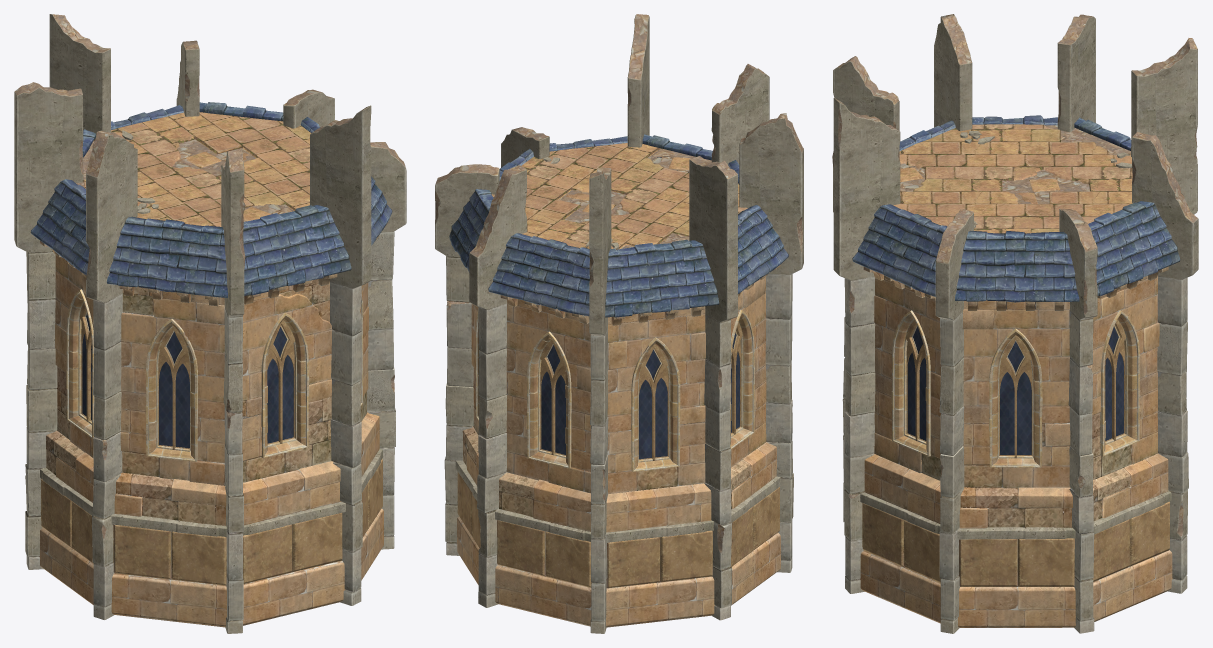
3 views of the same model, side by side, from view 1: azimuth 30°, elevation 25°; view 2: azimuth 150°, elevation 25°; view 3: azimuth 270°, elevation 25° (orthographic). The views are drawn at different scales.
Visible parts, largest first — view 1: SM_Magic_Insitute_02v02_LOD0; view 2: SM_Magic_Insitute_02v02_LOD0; view 3: SM_Magic_Insitute_02v02_LOD0.
Part boxes in pixels (x1,y1,x2,y2): SM_Magic_Insitute_02v02_LOD0: [14, 14, 406, 633]; SM_Magic_Insitute_02v02_LOD0: [435, 14, 803, 633]; SM_Magic_Insitute_02v02_LOD0: [832, 14, 1198, 633].
Bounding box in the file's own units: 12.44 × 18.52 × 12.46.
8 materials, 8 textured.
